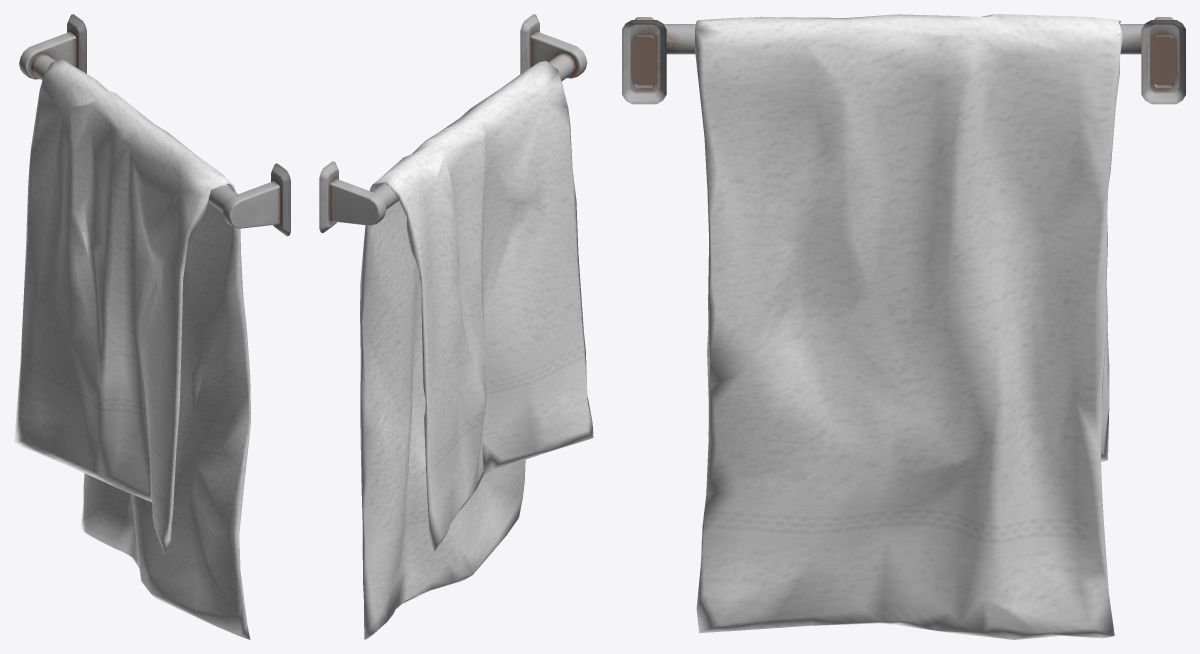
File: SM_TowelHandle_A1.fbx
3 views of the same model, side by side, from view 1: azimuth 30°, elevation 25°; view 2: azimuth 150°, elevation 25°; view 3: azimuth 270°, elevation 25° (orthographic). The views are drawn at different scales.
Parts seen in each view (by area): view 1: SM_TowelHandle_A1; view 2: SM_TowelHandle_A1; view 3: SM_TowelHandle_A1.
Part boxes in pixels (<box>): SM_TowelHandle_A1: <box>14,14,290,639</box>; SM_TowelHandle_A1: <box>319,14,593,639</box>; SM_TowelHandle_A1: <box>622,14,1185,639</box>.
Size of the model in its own units: 13.72 by 57.36 by 70.61.
2 materials, 2 textured.
